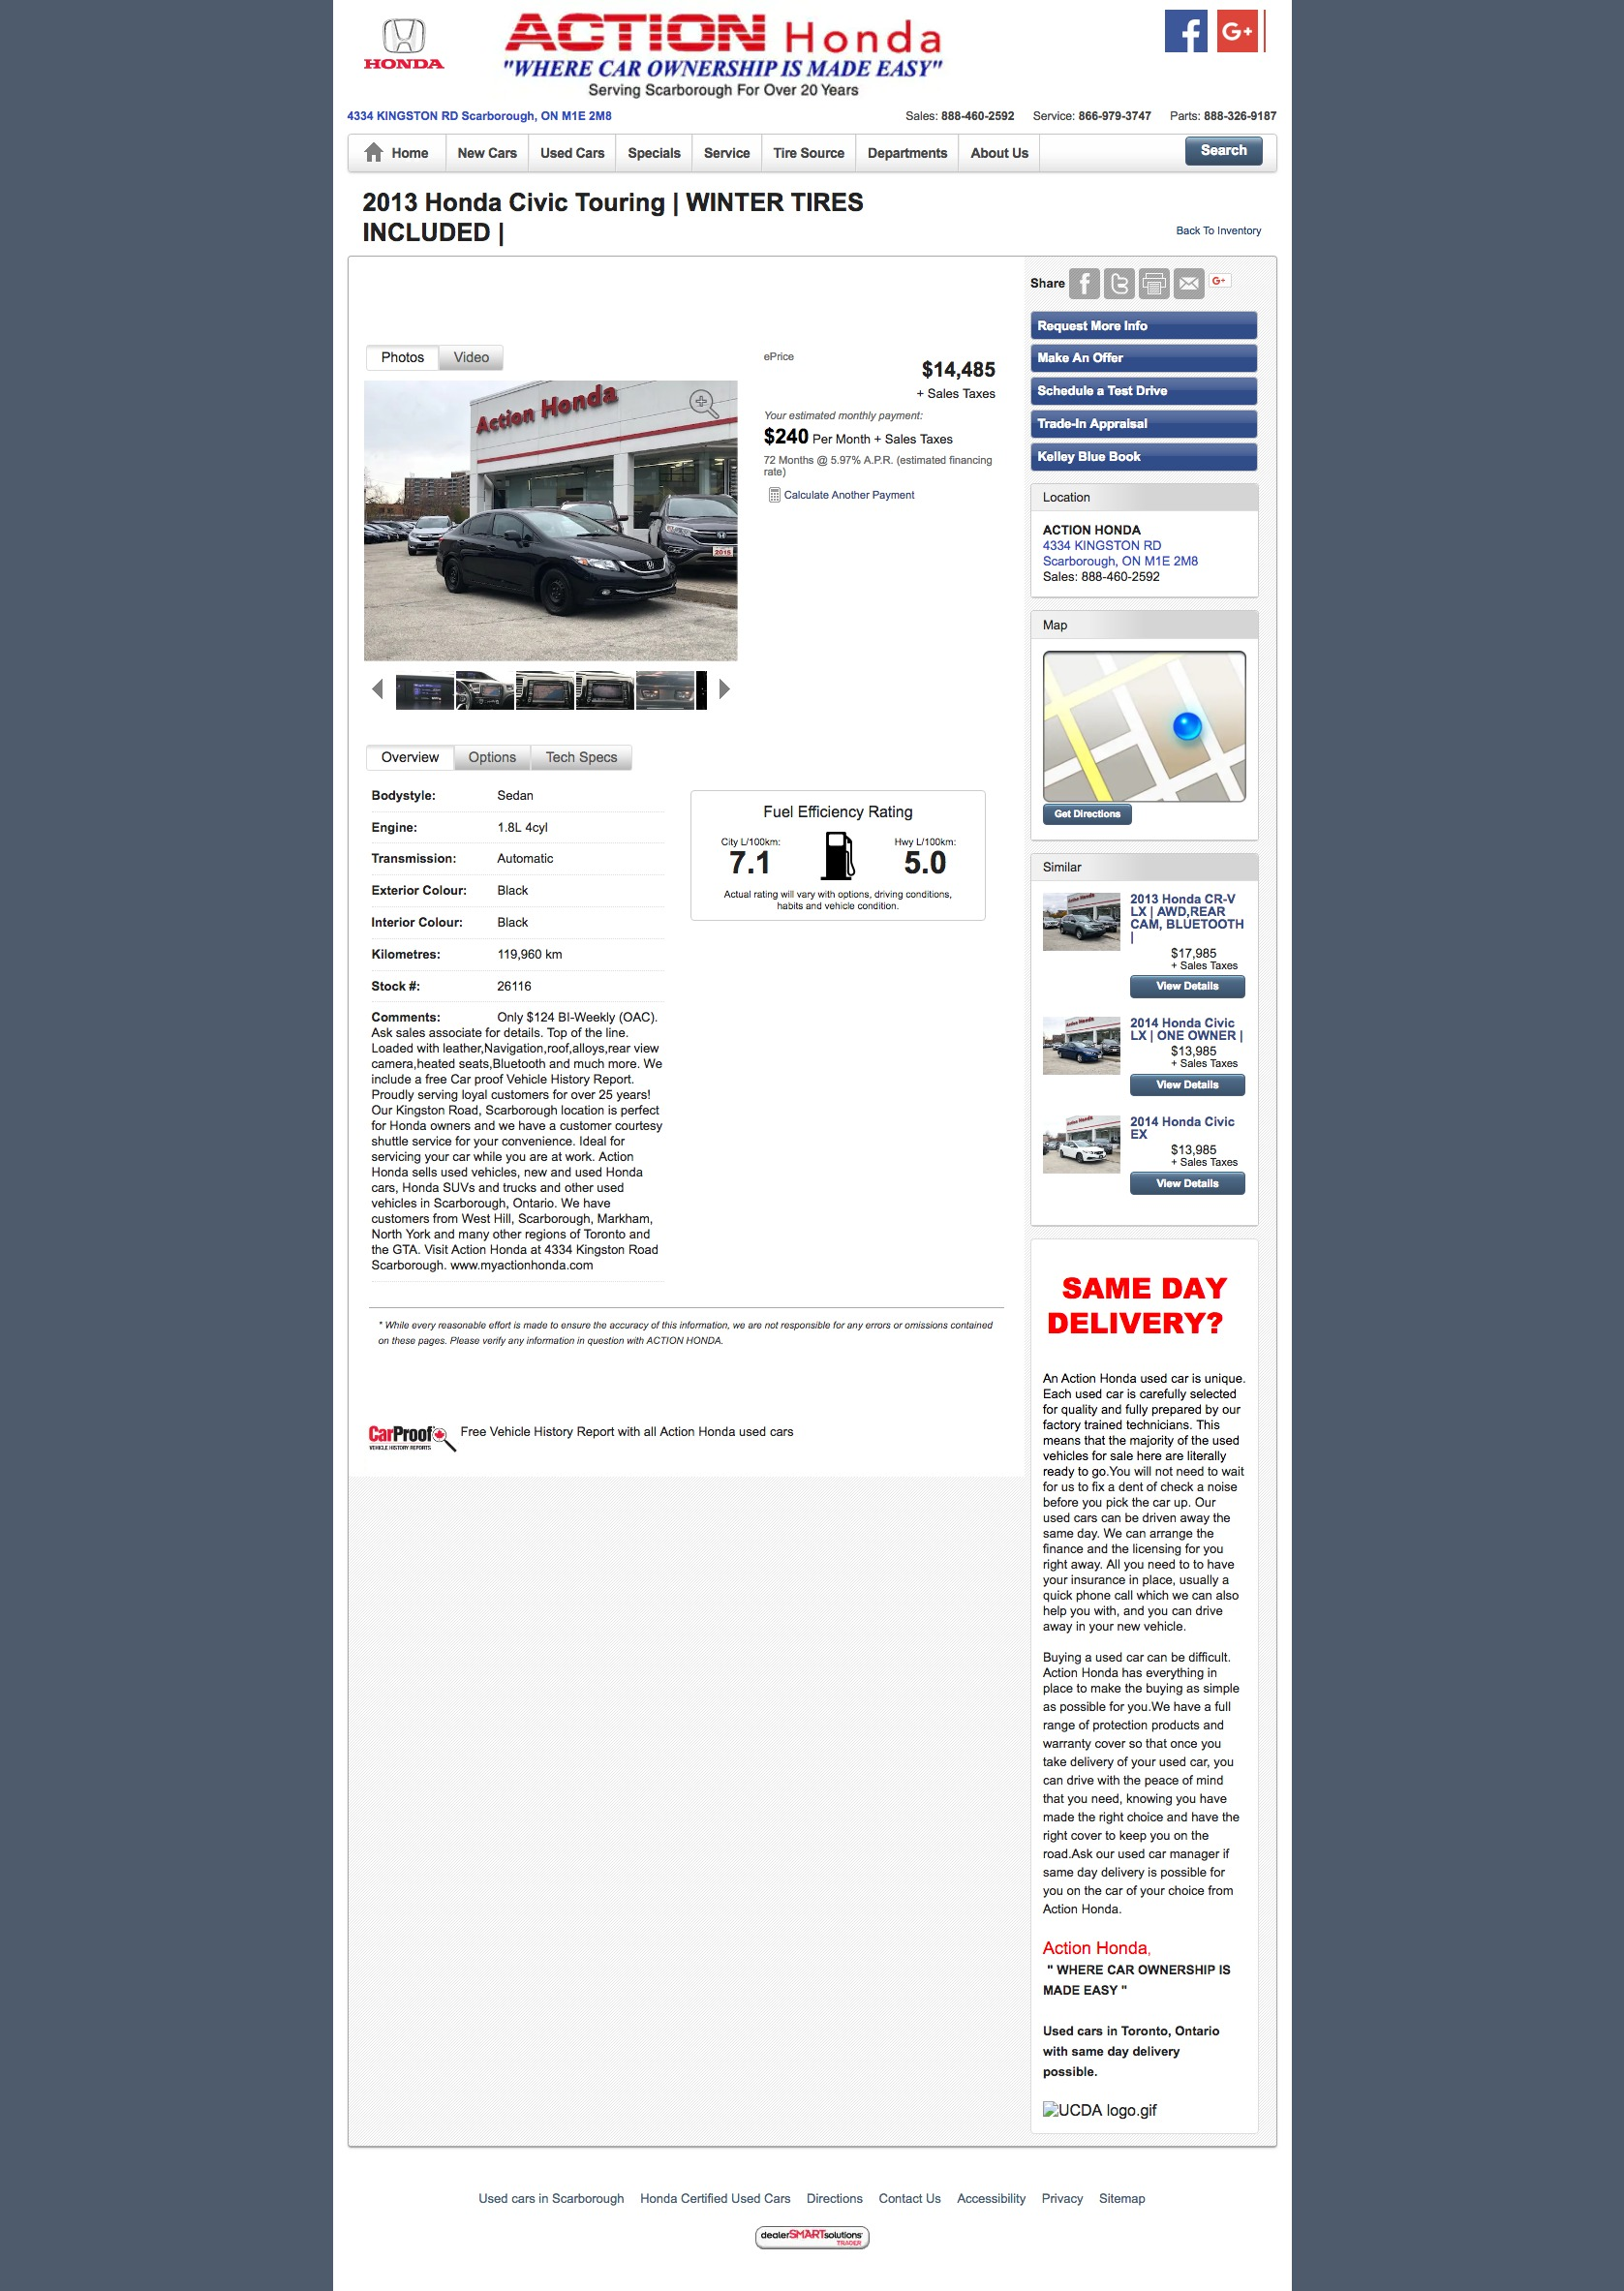car: (719, 678, 731, 703)
